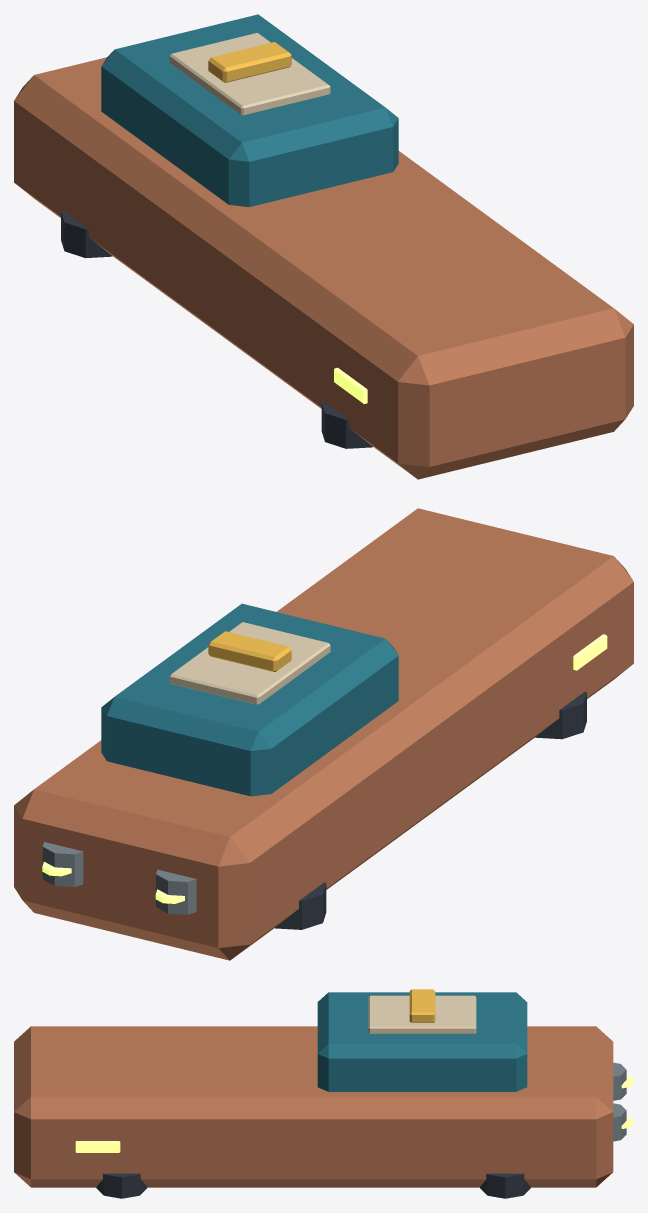
File: vehicles_022_seed11.glb
3 views of the same model, one above another, from view 1: azimuth 30°, elevation 25°; view 2: azimuth 150°, elevation 25°; view 3: azimuth 270°, elevation 25° (orthographic). The views are drawn at different scales.
Parts seen in each view (by area): view 1: vehicles_022_seed11; view 2: vehicles_022_seed11; view 3: vehicles_022_seed11.
Part boxes in pixels (x1,y1,x2,y2): vehicles_022_seed11: (14,14,633,479); vehicles_022_seed11: (14,508,633,960); vehicles_022_seed11: (14,989,633,1198).
Bounding box in the file's own units: 2.06 × 1.6 × 5.81.
